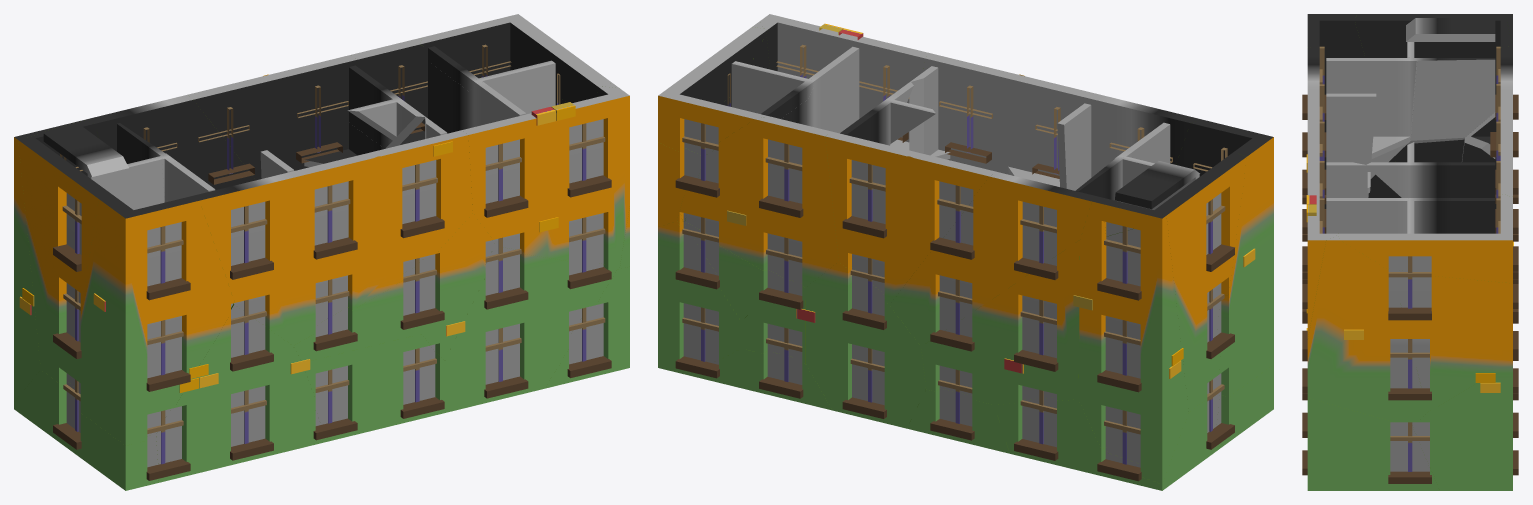
The model's file is House_1_mid_cell.fbx.
3 views of the same model, side by side, from view 1: azimuth 30°, elevation 25°; view 2: azimuth 150°, elevation 25°; view 3: azimuth 270°, elevation 25° (orthographic). The views are drawn at different scales.
Parts seen in each view (by area): view 1: mid_cell.018, mid_cell.004, mid_cell.027, mid_cell.017, mid_cell.026, mid_cell.020, mid_cell.009, mid_cell.015, mid_cell.019, mid_cell.006, mid_cell.021, mid_cell.002 (+14 smaller); view 2: mid_cell.003, mid_cell, mid_cell.018, mid_cell.006, mid_cell.020, mid_cell.008, mid_cell.004, mid_cell.014, mid_cell.026, mid_cell.012, mid_cell.027, mid_cell.019 (+16 smaller); view 3: mid_cell.025, mid_cell.023, mid_cell.012, mid_cell.005, mid_cell.019, midmid_cell.014, mid_cell.026, midmid_cell.017, midmid_cell.005, midmid_cell.013, midmid_cell.004, mid_cell.004 (+17 smaller).
Boxes of the visible parts, bbox=[...] form: mid_cell.018: bbox=[196, 130, 472, 345]; mid_cell.004: bbox=[70, 195, 234, 445]; mid_cell.027: bbox=[462, 86, 629, 269]; mid_cell.017: bbox=[156, 304, 330, 482]; mid_cell.026: bbox=[18, 120, 114, 386]; mid_cell.020: bbox=[187, 55, 357, 180]; mid_cell.009: bbox=[503, 247, 617, 398]; mid_cell.015: bbox=[305, 334, 444, 440]; mid_cell.019: bbox=[420, 14, 611, 102]; mid_cell.006: bbox=[85, 95, 255, 190]; mid_cell.021: bbox=[419, 213, 495, 360]; mid_cell.002: bbox=[444, 244, 504, 412]; mid_cell.003: bbox=[1078, 201, 1188, 483]; mid_cell: bbox=[677, 116, 838, 287]; mid_cell.018: bbox=[923, 53, 1199, 177]; mid_cell.006: bbox=[889, 171, 1094, 346]; mid_cell.020: bbox=[825, 131, 995, 304]; mid_cell.008: bbox=[921, 240, 1079, 404]; mid_cell.004: bbox=[1176, 119, 1273, 396]; mid_cell.014: bbox=[805, 262, 925, 428]; mid_cell.026: bbox=[1092, 152, 1246, 411]; mid_cell.012: bbox=[658, 221, 741, 375]; mid_cell.027: bbox=[759, 14, 930, 142]; mid_cell.019: bbox=[658, 27, 768, 154]; mid_cell.025: bbox=[1307, 235, 1426, 422]; mid_cell.023: bbox=[1392, 270, 1512, 412]; mid_cell.012: bbox=[1412, 361, 1512, 490]; mid_cell.005: bbox=[1307, 398, 1439, 490]; mid_cell.019: bbox=[1337, 193, 1512, 283]; midmid_cell.014: bbox=[1407, 42, 1495, 144]; mid_cell.026: bbox=[1354, 14, 1512, 162]; midmid_cell.017: bbox=[1326, 57, 1417, 158]; midmid_cell.005: bbox=[1326, 162, 1408, 233]; midmid_cell.013: bbox=[1366, 142, 1495, 197]; midmid_cell.004: bbox=[1326, 93, 1376, 197]; mid_cell.004: bbox=[1307, 14, 1401, 208].
Size of the model in its own units: 2796 by 1443 by 1105.
